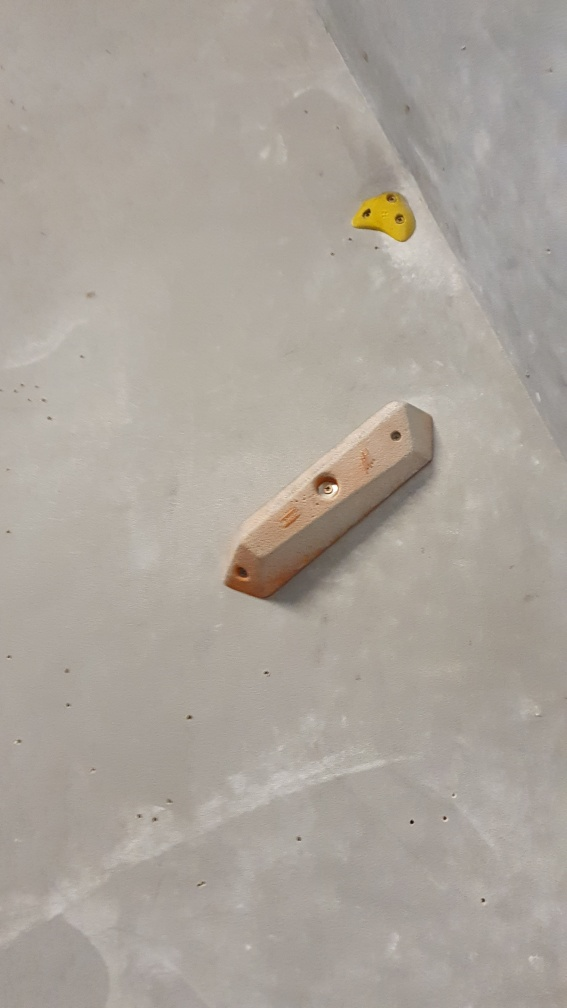Pinch: (222, 396, 438, 607)
